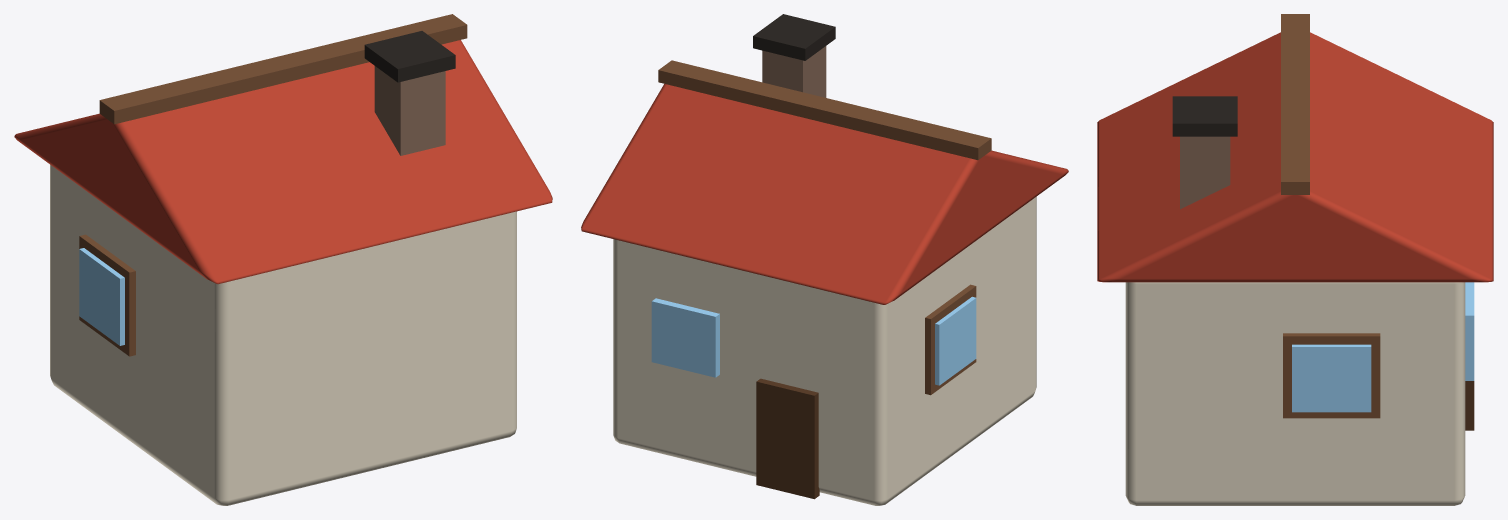
Rendered from prop_house_0.glb.
3 views of the same model, side by side, from view 1: azimuth 30°, elevation 25°; view 2: azimuth 150°, elevation 25°; view 3: azimuth 270°, elevation 25° (orthographic). The views are drawn at different scales.
Parts seen in each view (by area): view 1: Walls, Roof, Ridge, Chimney, Window, ChimneyCap, WindowFrame; view 2: Walls, Roof, Ridge, Door, WindowFront, Window, ChimneyCap, Chimney, WindowFrame; view 3: Roof, Walls, Window.001, Ridge, WindowFrame.001, Chimney, ChimneyCap, WindowFront, Door.
Boxes of the visible parts, x1,y1,x2,y2 form: Walls: [50, 164, 516, 505]; Roof: [14, 40, 552, 284]; Ridge: [99, 14, 467, 124]; Chimney: [374, 66, 445, 155]; Window: [79, 248, 124, 345]; ChimneyCap: [364, 31, 455, 82]; WindowFrame: [79, 234, 135, 356]; Walls: [613, 197, 1036, 505]; Roof: [581, 84, 1068, 304]; Ridge: [658, 60, 991, 160]; Door: [756, 378, 819, 499]; WindowFront: [651, 298, 719, 377]; Window: [935, 296, 976, 385]; ChimneyCap: [753, 14, 835, 60]; Chimney: [762, 46, 826, 97]; WindowFrame: [925, 284, 976, 395]; Roof: [1097, 32, 1493, 282]; Walls: [1125, 282, 1465, 505]; Window.001: [1292, 344, 1371, 412]; Ridge: [1281, 14, 1309, 194]; WindowFrame.001: [1283, 333, 1380, 418]; Chimney: [1180, 136, 1230, 209]; ChimneyCap: [1172, 96, 1237, 136]; WindowFront: [1465, 282, 1474, 380]; Door: [1465, 381, 1474, 430].
Size of the model in its own units: 1.1 by 1.12 by 1.1.
